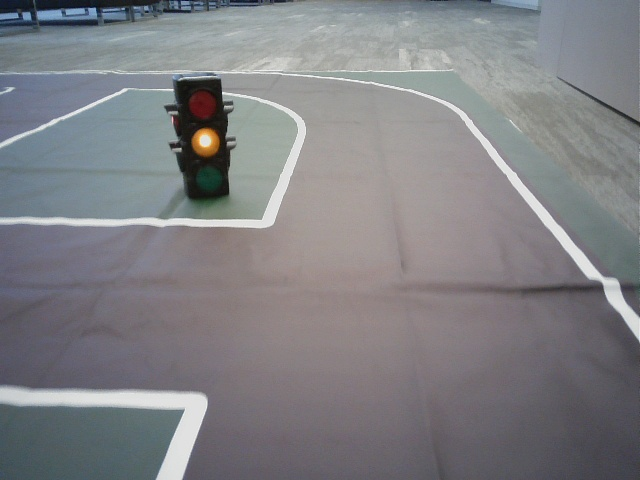yellow: (181, 81, 227, 196)
